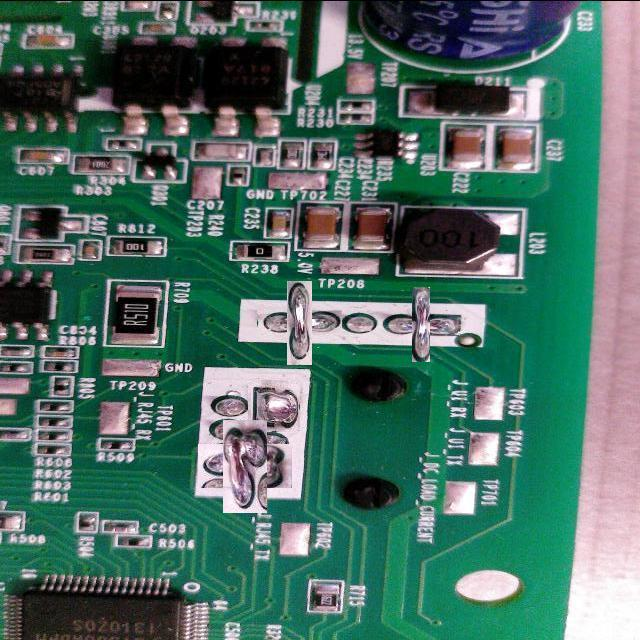Short_circuit: (210, 432, 280, 500), (272, 295, 327, 350), (249, 381, 299, 431), (398, 300, 444, 348)
